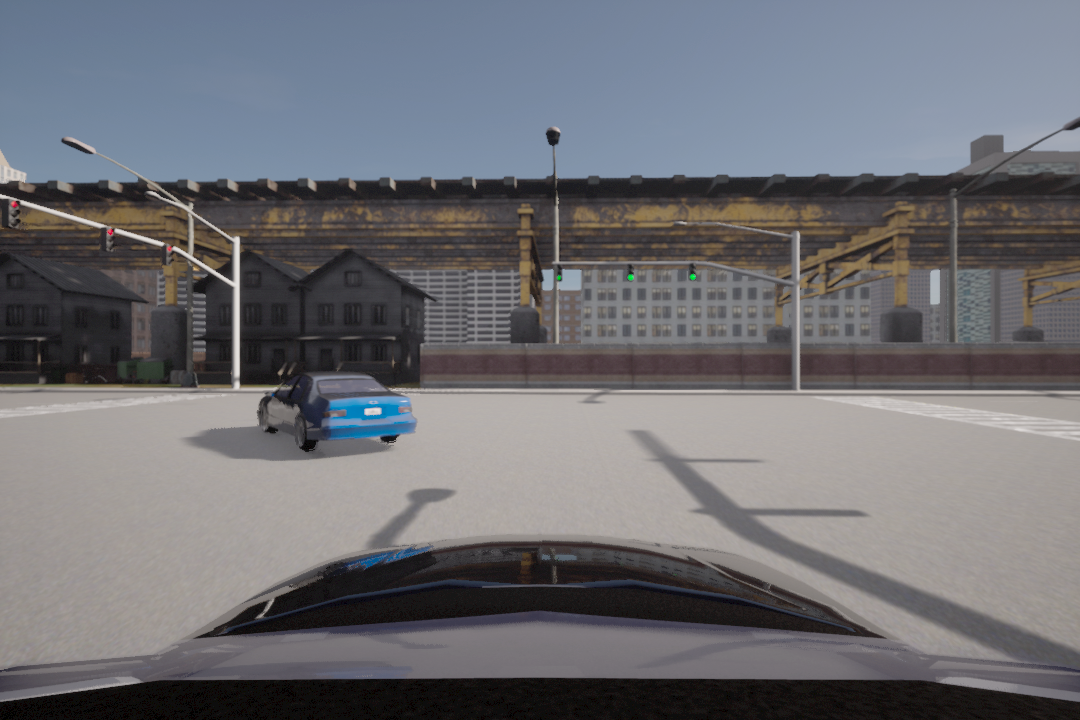TrafficLight: (4, 198, 24, 231), (161, 241, 175, 270), (101, 224, 115, 251), (687, 262, 702, 283), (624, 262, 637, 286), (553, 264, 564, 281)
